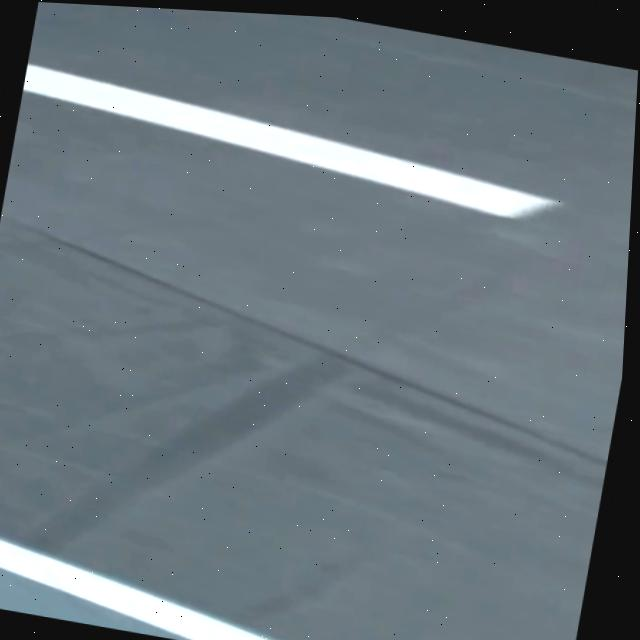center: (21, 64, 559, 218)
left: (0, 540, 269, 640)
